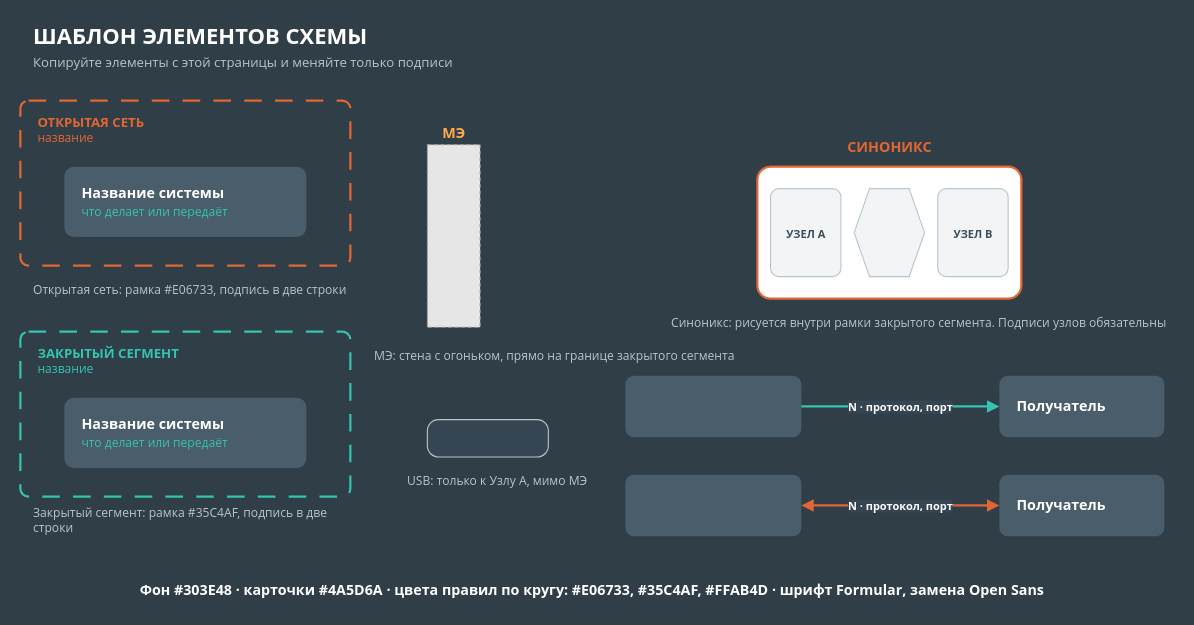
This 1194x625 diagram has some shape labels left out. Grey dashed boxes stand in for pictures. Here are the shapes that lost their labels. From the top down, the centre of each, then its label:
At point (889, 232): "ЯДРО".
At point (713, 406): "Отправитель однонаправленное".
At point (487, 438): "USB-носитель".
At point (713, 505): "Инициатор двунаправленное".
